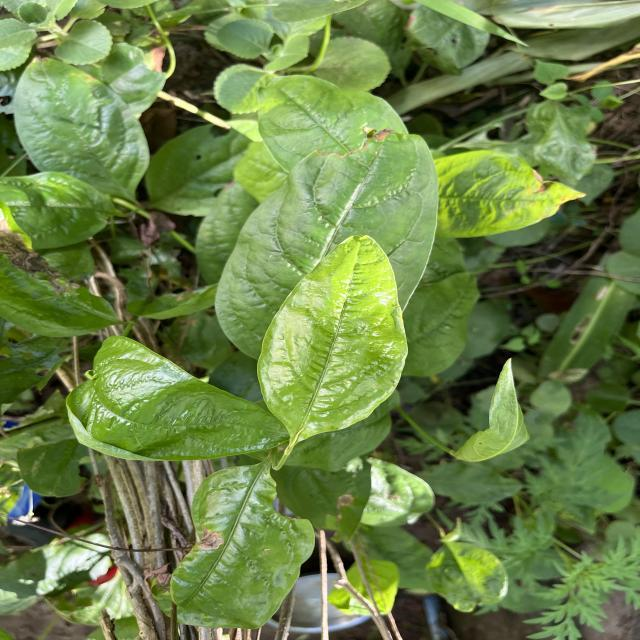Plumbago indica: (252, 228, 414, 438), (62, 332, 287, 465), (167, 466, 318, 629), (8, 54, 152, 194)
